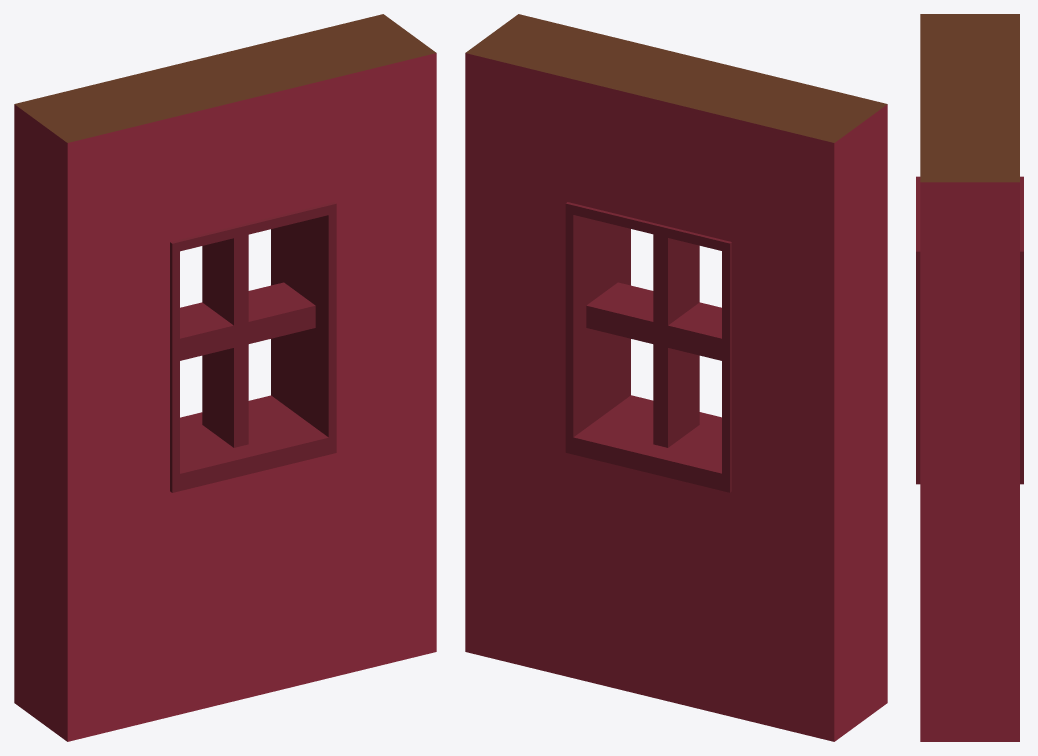
The model's file is SmallWindow_02.fbx.
The picture shows the model from 3 angles, left to right: view 1: azimuth 30°, elevation 25°; view 2: azimuth 150°, elevation 25°; view 3: azimuth 270°, elevation 25°; orthographic projection. The views are drawn at different scales.
Visible parts, largest first — view 1: SmallWindow_01; view 2: SmallWindow_01; view 3: SmallWindow_01.
Part boxes in pixels (x1,y1,x2,y2): SmallWindow_01: (14,14,436,741); SmallWindow_01: (465,14,887,741); SmallWindow_01: (916,14,1023,741).
Size of the model in its own units: 200 by 310 by 54.11.
